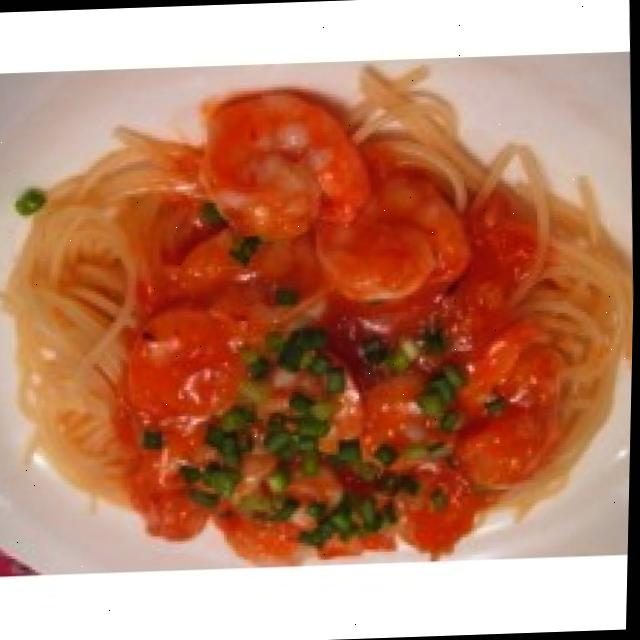熟制海鲜: (0, 61, 639, 572)
